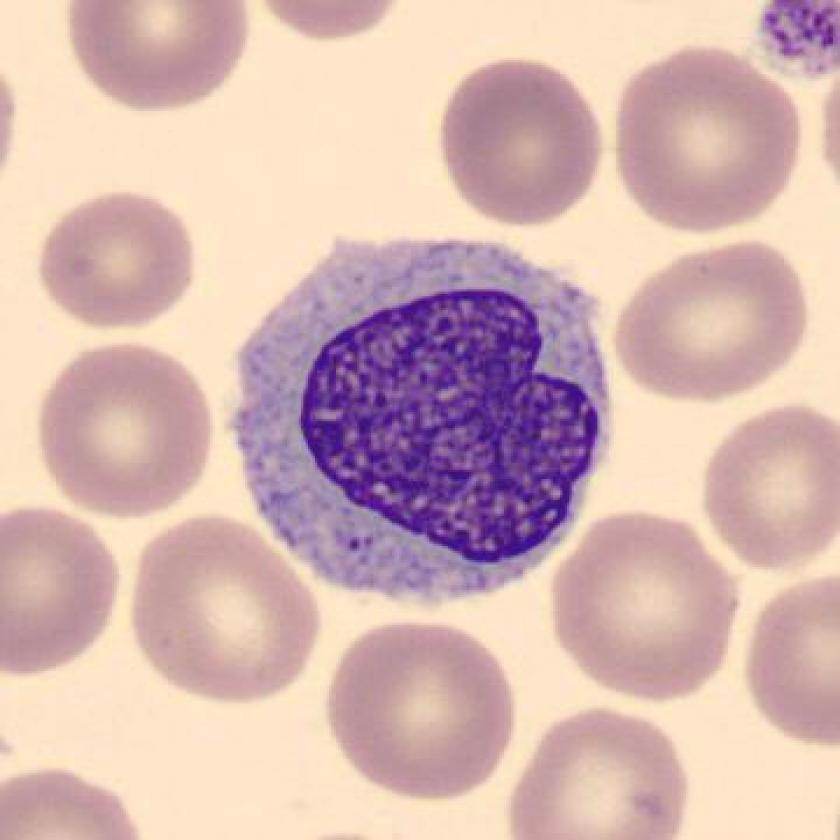monocyte: (206, 209, 636, 621)
